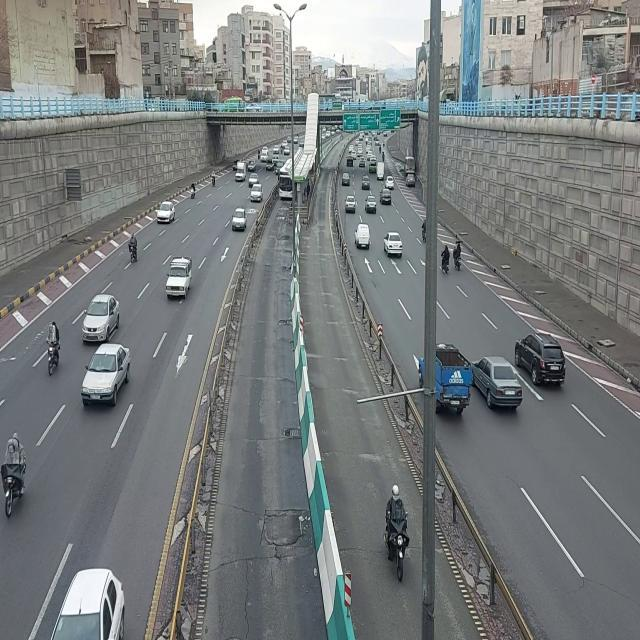Car: (81, 336, 133, 411), (514, 326, 570, 389), (473, 356, 525, 419), (80, 292, 121, 346), (383, 227, 405, 265), (156, 196, 178, 228), (231, 204, 249, 234)
Motorcycle: (380, 476, 414, 584), (0, 433, 31, 524), (46, 314, 62, 379), (123, 229, 141, 271), (441, 237, 451, 279), (452, 241, 462, 273)
Pickup: (417, 344, 473, 415), (354, 219, 374, 255), (235, 152, 249, 190)
